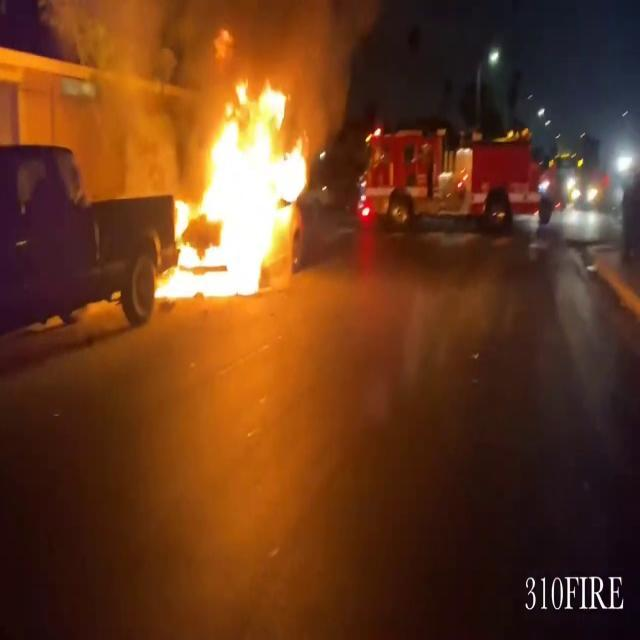Fire: (150, 71, 314, 305)
Smoke: (46, 0, 198, 193)
